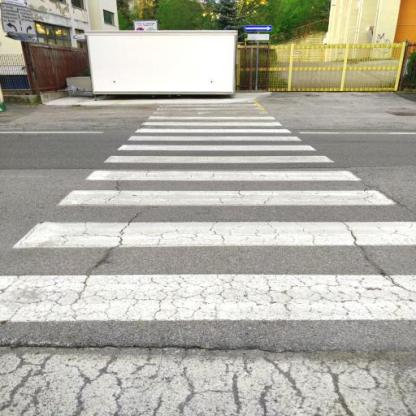crosswalk: (1, 218, 415, 330), (49, 168, 399, 210), (113, 134, 318, 154)
